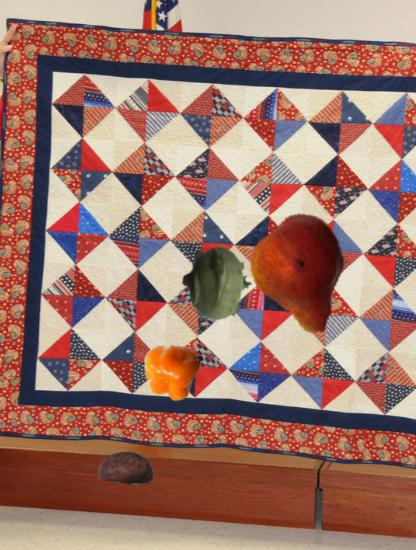Chestnut: (98, 439, 156, 497)
Kohlrabi: (180, 246, 255, 321)
Pear: (244, 215, 365, 336)
Pepper: (143, 339, 206, 402)
